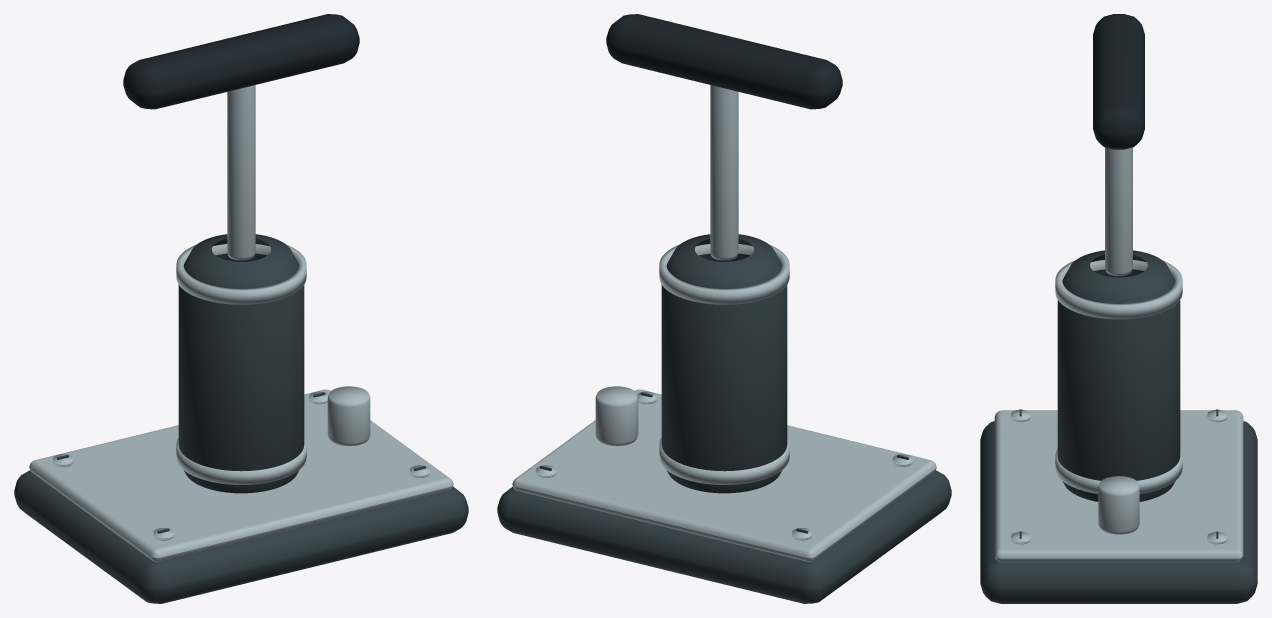
File: pump.glb
3 renders of one model, left to right at view 1: azimuth 30°, elevation 25°; view 2: azimuth 150°, elevation 25°; view 3: azimuth 270°, elevation 25°, orthographic. The views are drawn at different scales.
Visible parts, largest first — view 1: Satin upper panel, Pump barrel, Machined plinth, pumpHandle, pumpRod, Pump compression fitting.001, Hose socket, Pump compression fitting; view 2: Satin upper panel, Pump barrel, Machined plinth, pumpHandle, pumpRod, Pump compression fitting.001, Hose socket, Pump compression fitting; view 3: Satin upper panel, Pump barrel, Machined plinth, pumpHandle, pumpRod, Pump compression fitting.001, Hose socket, Pump compression fitting.
Part boxes in pixels (x1,y1,x2,y2): Satin upper panel: (29,389,453,561); Pump barrel: (178,234,304,493); Machined plinth: (14,470,468,603); pumpHandle: (123,14,359,109); pumpRod: (227,85,255,260); Pump compression fitting.001: (176,244,306,304); Hose socket: (327,386,370,446); Pump compression fitting: (176,438,306,484); Satin upper panel: (512,389,936,561); Pump barrel: (661,234,787,493); Machined plinth: (497,470,951,603); pumpHandle: (606,14,842,109); pumpRod: (710,85,738,260); Pump compression fitting.001: (659,244,789,304); Hose socket: (595,386,638,446); Pump compression fitting: (659,438,789,484); Satin upper panel: (994,410,1243,562); Pump barrel: (1057,250,1180,501); Machined plinth: (980,421,1257,603); pumpHandle: (1093,14,1144,149); pumpRod: (1105,147,1132,275); Pump compression fitting.001: (1055,260,1182,319); Hose socket: (1098,476,1139,534); Pump compression fitting: (1055,449,1182,493).
Size of the model in its own units: 0.32 by 0.452 by 0.24.
